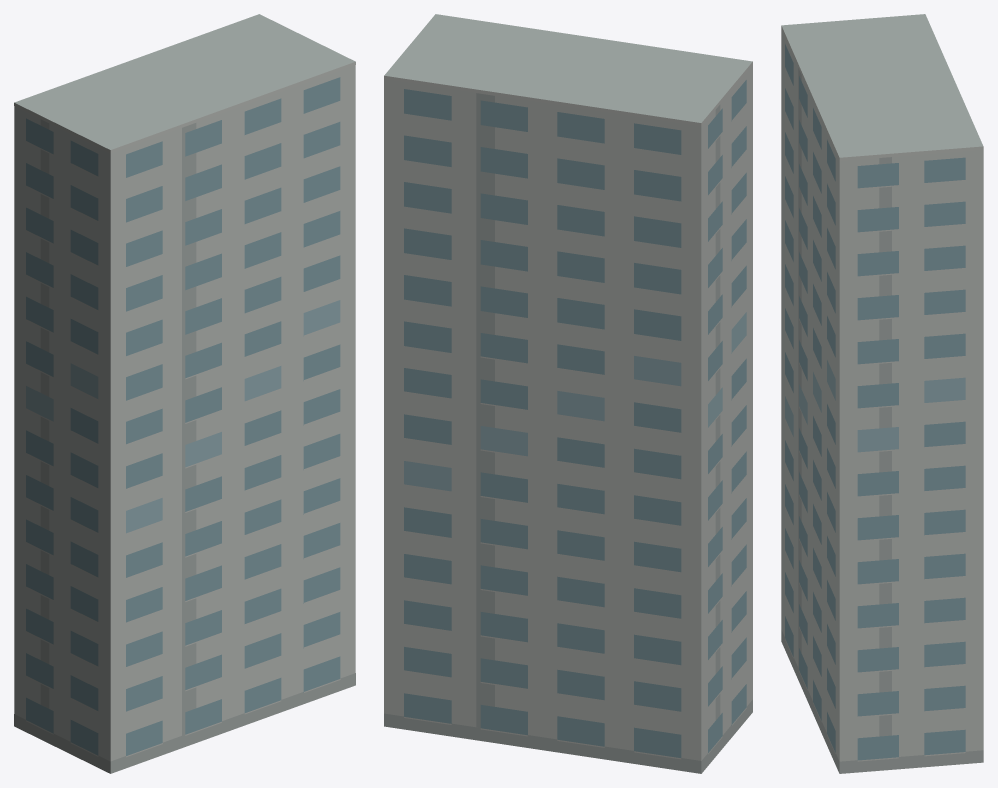
File: residential-1dd86fc0-0e1f-4916-ba7c-37b089f727ac.glb
The picture shows the model from 3 angles, left to right: view 1: azimuth 30°, elevation 25°; view 2: azimuth 150°, elevation 25°; view 3: azimuth 270°, elevation 25°; orthographic projection. The views are drawn at different scales.
Visible parts, largest first — view 1: residential-1dd86fc0-0e1f-4916-ba7c-37b089f727ac.tmp; view 2: residential-1dd86fc0-0e1f-4916-ba7c-37b089f727ac.tmp; view 3: residential-1dd86fc0-0e1f-4916-ba7c-37b089f727ac.tmp.
Part boxes in pixels (left/top/right/bottom): residential-1dd86fc0-0e1f-4916-ba7c-37b089f727ac.tmp: left=14, top=14, right=355, bottom=773; residential-1dd86fc0-0e1f-4916-ba7c-37b089f727ac.tmp: left=384, top=14, right=752, bottom=773; residential-1dd86fc0-0e1f-4916-ba7c-37b089f727ac.tmp: left=781, top=14, right=983, bottom=773.
Size of the model in its own units: 22.03 by 44 by 13.09.
